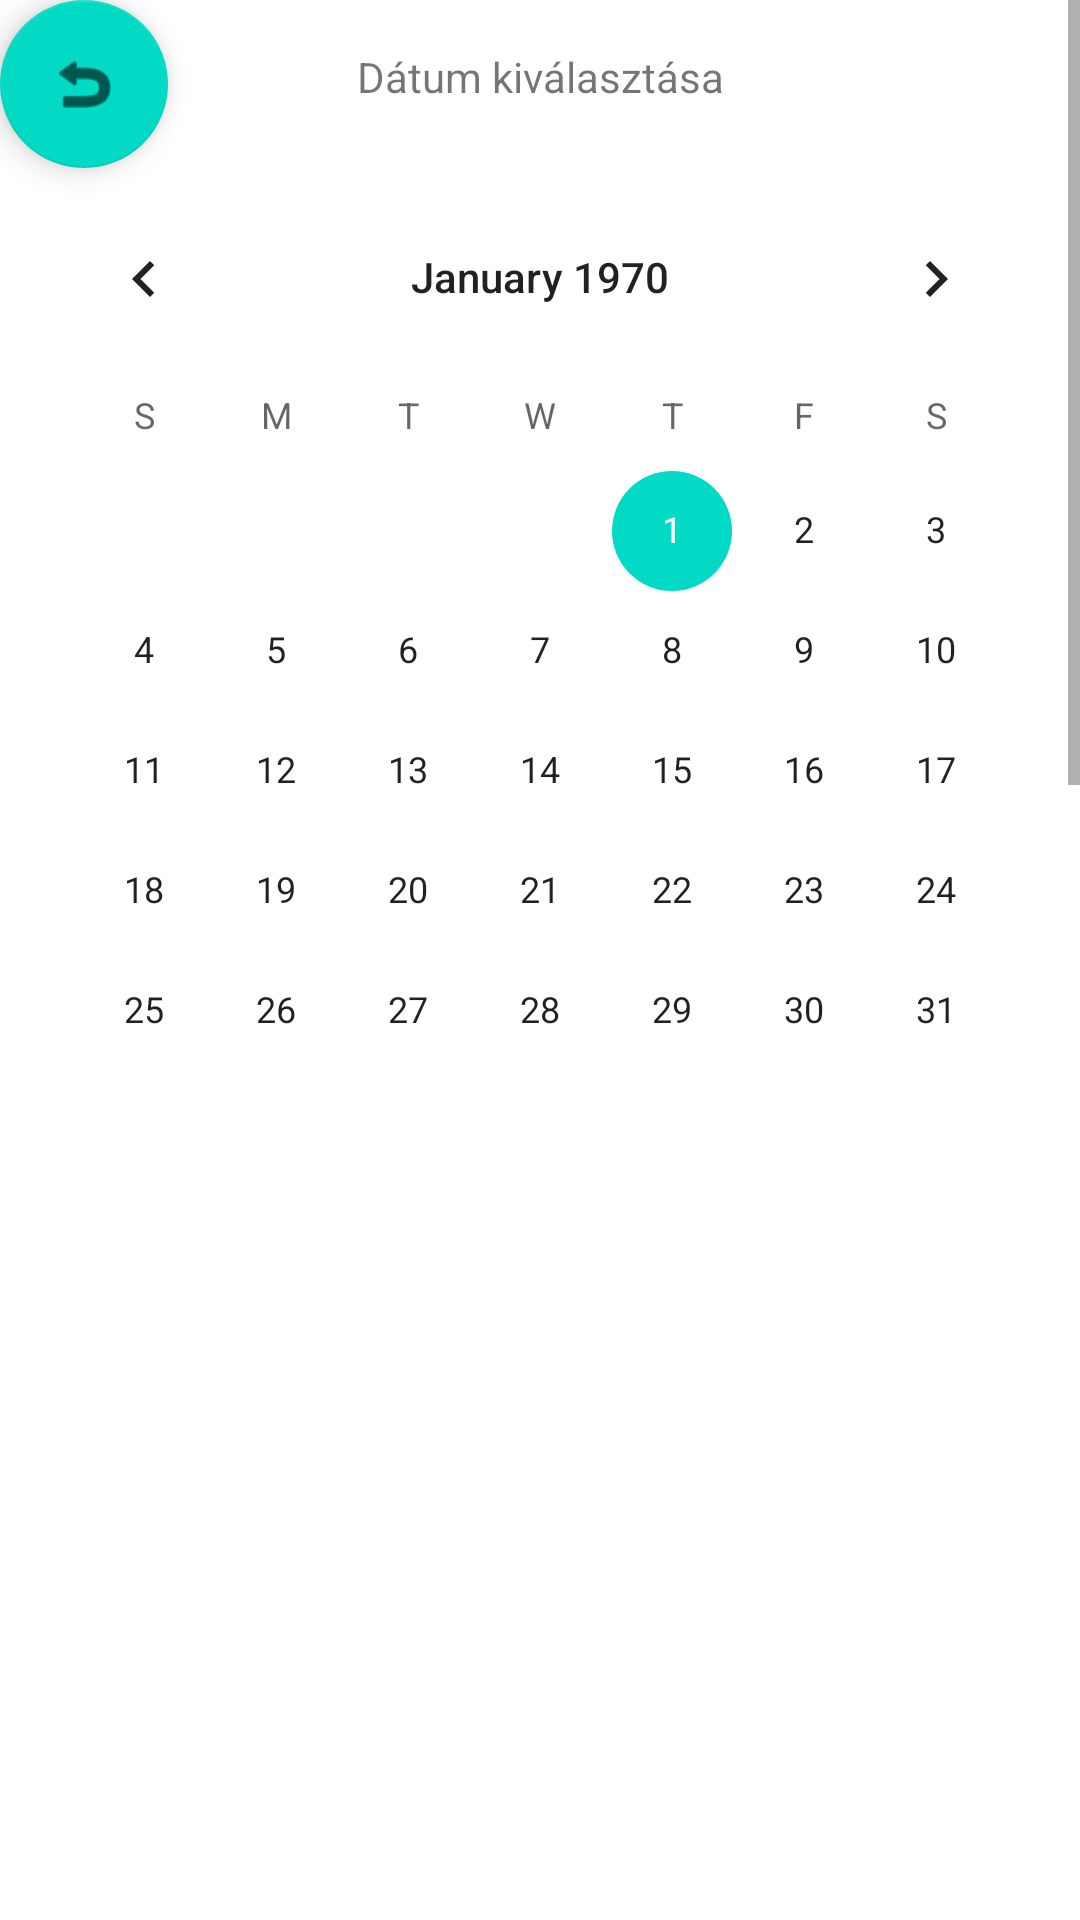

Icon click points for this 1080px×1920px phone screenshot, format [x,y]:
revert: [84,84]
